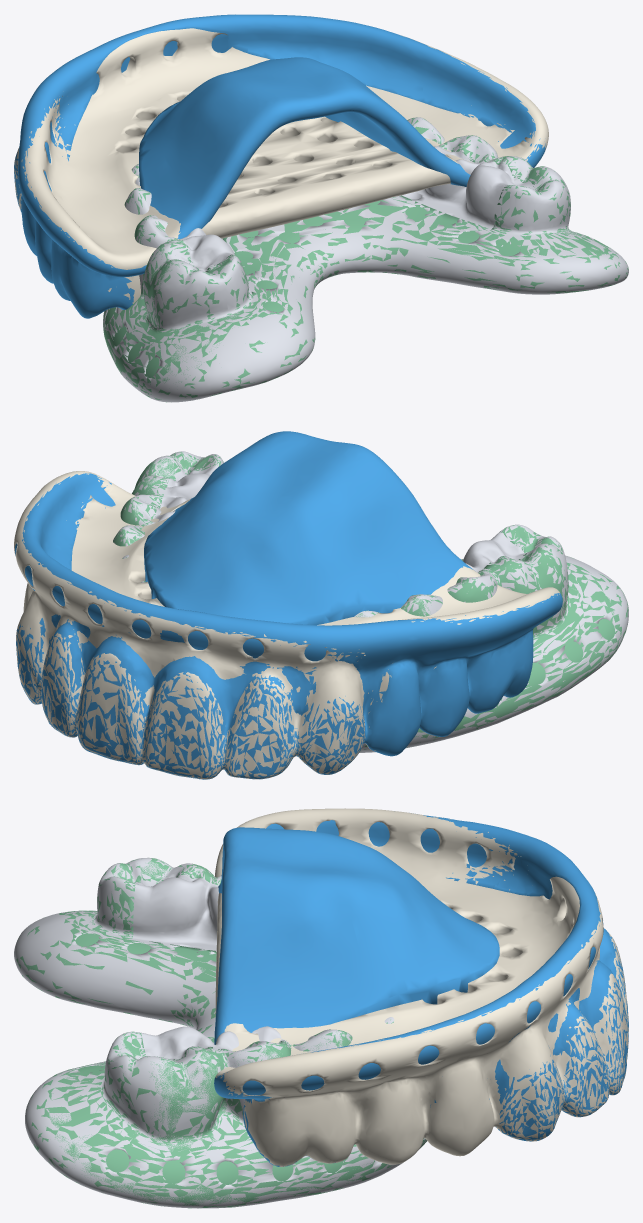
The model's file is n2-demodenture-real.glb.
3 renders of one model, top to bottom at view 1: azimuth 30°, elevation 25°; view 2: azimuth 150°, elevation 25°; view 3: azimuth 270°, elevation 25°, orthographic. The views are drawn at different scales.
Visible parts, largest first — view 1: Stent superior|Upper stent, Demodenture inferior|Lower demodenture, Demodenture superior|Upper demodenture, Stent inferior|Lower stent; view 2: Stent superior|Upper stent, Demodenture superior|Upper demodenture, Demodenture inferior|Lower demodenture, Stent inferior|Lower stent; view 3: Demodenture superior|Upper demodenture, Stent superior|Upper stent, Demodenture inferior|Lower demodenture, Stent inferior|Lower stent.
Boxes of the visible parts, left/top/right/bottom form: Stent superior|Upper stent: left=14, top=14, right=546, bottom=318; Demodenture inferior|Lower demodenture: left=103, top=117, right=628, bottom=402; Demodenture superior|Upper demodenture: left=14, top=28, right=548, bottom=303; Stent inferior|Lower stent: left=103, top=117, right=628, bottom=402; Stent superior|Upper stent: left=15, top=431, right=562, bottom=779; Demodenture superior|Upper demodenture: left=14, top=471, right=559, bottom=779; Demodenture inferior|Lower demodenture: left=113, top=451, right=628, bottom=752; Stent inferior|Lower stent: left=113, top=452, right=628, bottom=751; Demodenture superior|Upper demodenture: left=215, top=808, right=628, bottom=1166; Stent superior|Upper stent: left=214, top=815, right=628, bottom=1166; Demodenture inferior|Lower demodenture: left=14, top=857, right=426, bottom=1208; Stent inferior|Lower stent: left=16, top=858, right=427, bottom=1208.
Bounding box in the file's own units: 52.62 × 24.59 × 52.26.
